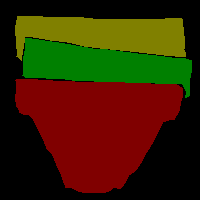mutande: (15, 78, 183, 193), (22, 37, 192, 98), (15, 15, 186, 61)
